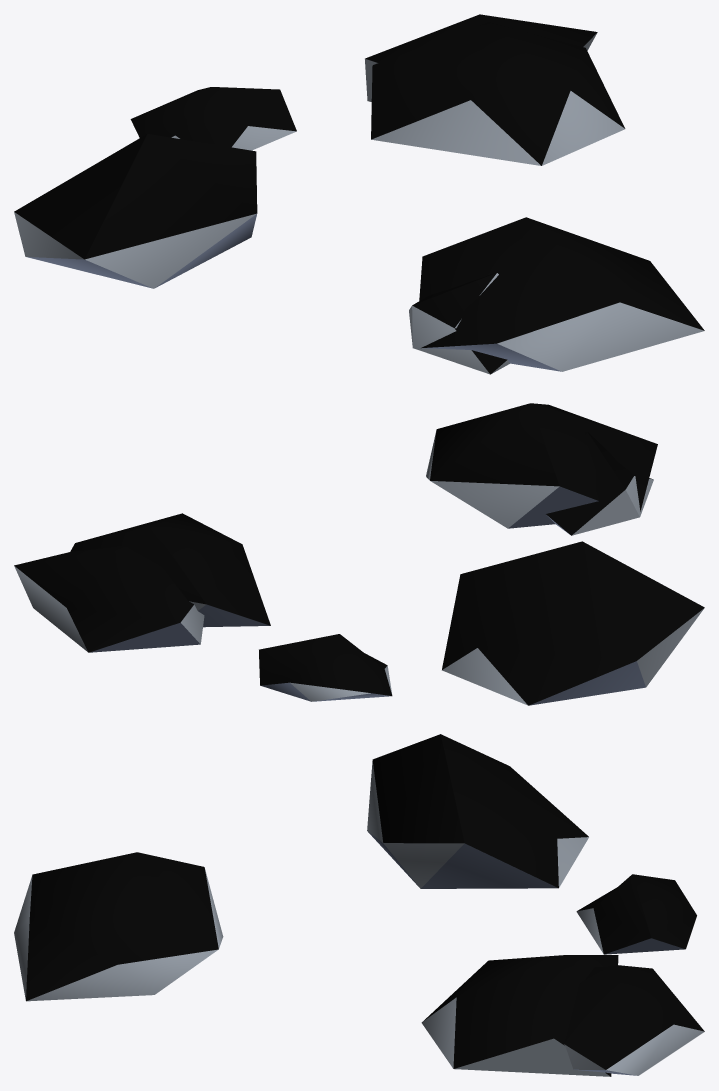
File: MoonPebbles.fbx
3 views of the same model, one above another, from view 1: azimuth 30°, elevation 25°; view 2: azimuth 150°, elevation 25°; view 3: azimuth 270°, elevation 25° (orthographic). The views are drawn at different scales.
Parts seen in each view (by area): view 1: MoonPebbles; view 2: MoonPebbles; view 3: MoonPebbles.
Boxes of the visible parts, left/top/right/bottom form: MoonPebbles: left=14, top=14, right=704, bottom=374; MoonPebbles: left=14, top=403, right=704, bottom=705; MoonPebbles: left=14, top=734, right=704, bottom=1076.
Bounding box in the file's own units: 1.02 × 0.1813 × 1.02.
1 material, 1 textured.
